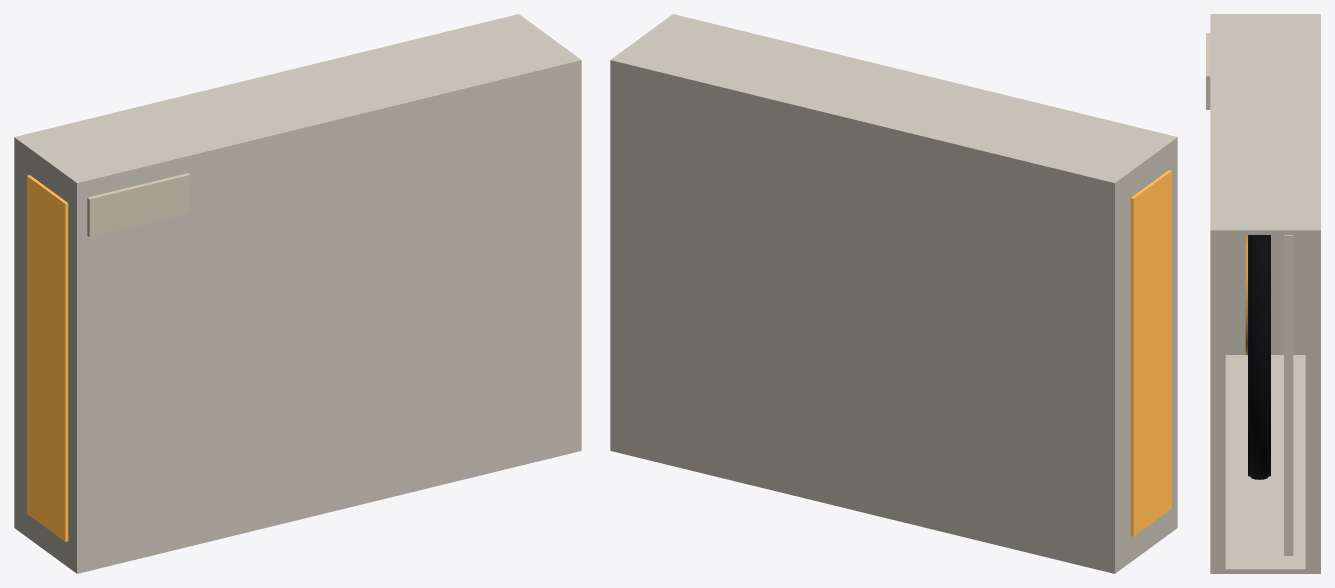
Rendered from vinyl-sleeve-assembly.glb.
The picture shows the model from 3 angles, left to right: view 1: azimuth 30°, elevation 25°; view 2: azimuth 150°, elevation 25°; view 3: azimuth 270°, elevation 25°; orthographic projection. The views are drawn at different scales.
Parts seen in each view (by area): view 1: cover__Sleeve_Paper, carrier__Sleeve_Paper, fasteners__Amber_Lightguide, fasteners__Index_Inlay; view 2: carrier__Sleeve_Paper, fasteners__Amber_Lightguide, cover__Sleeve_Paper; view 3: carrier__Sleeve_Paper, cover__Sleeve_Paper, optical-core__Vinyl_Record, substrate__Sleeve_Liner, fasteners__Index_Inlay, optical-lenses__Vinyl_Label.
Boxes of the visible parts, x1,y1,x2,y2 form: cover__Sleeve_Paper: (68, 53, 581, 573); carrier__Sleeve_Paper: (14, 14, 572, 566); fasteners__Amber_Lightguide: (27, 175, 68, 541); fasteners__Index_Inlay: (87, 173, 190, 237); carrier__Sleeve_Paper: (610, 20, 1168, 573); fasteners__Amber_Lightguide: (1130, 170, 1171, 536); cover__Sleeve_Paper: (664, 14, 1177, 533); carrier__Sleeve_Paper: (1225, 14, 1320, 573); cover__Sleeve_Paper: (1210, 14, 1225, 573); optical-core__Vinyl_Record: (1248, 235, 1270, 479); substrate__Sleeve_Liner: (1284, 235, 1293, 555); fasteners__Index_Inlay: (1206, 33, 1210, 109); optical-lenses__Vinyl_Label: (1245, 235, 1247, 355).
Size of the model in its own units: 5.03 by 3.7 by 1.12.
